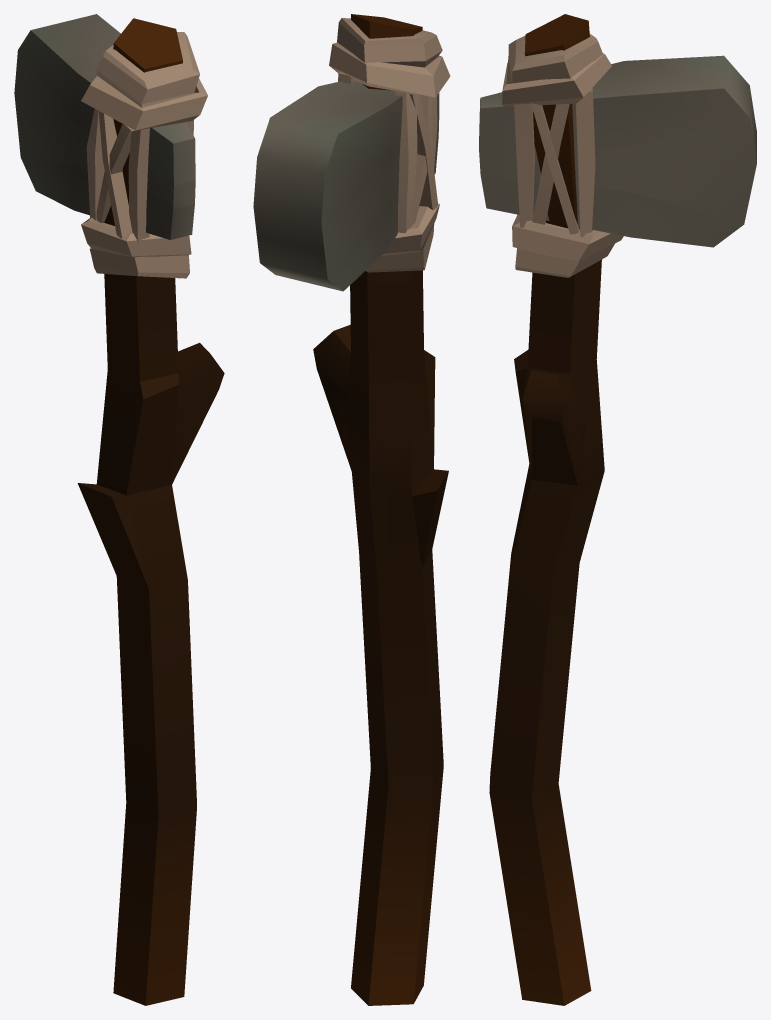
File: Axe Stone.fbx
3 renders of one model, left to right at view 1: azimuth 30°, elevation 25°; view 2: azimuth 150°, elevation 25°; view 3: azimuth 270°, elevation 25°, orthographic. The views are drawn at different scales.
Visible parts, largest first — view 1: Axe_Stone; view 2: Axe_Stone; view 3: Axe_Stone.
Boxes of the visible parts, box(x1,y1,x2,y2) form: Axe_Stone: box(14, 14, 224, 1005); Axe_Stone: box(253, 14, 450, 1005); Axe_Stone: box(479, 14, 756, 1005).
Bounding box in the file's own units: 25.89 × 187 × 48.55.
